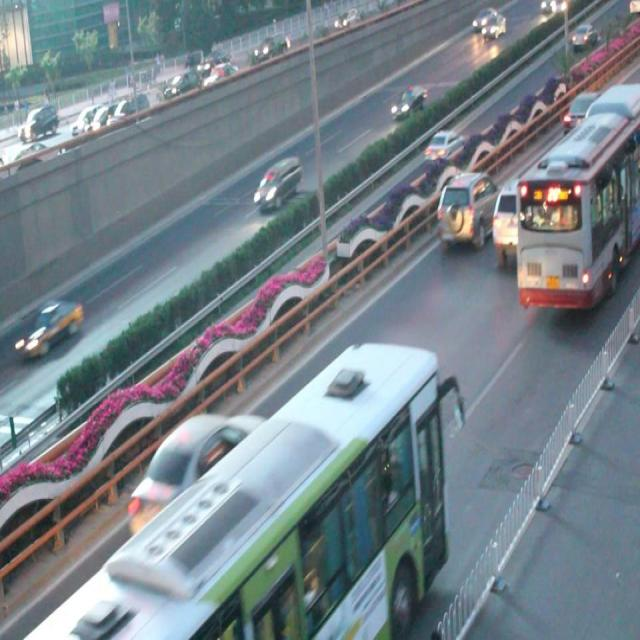car: (125, 415, 263, 532), (490, 175, 567, 272), (434, 170, 495, 248), (16, 298, 84, 360), (422, 125, 465, 168), (388, 81, 426, 123)
truck: (252, 154, 302, 211)
van: (36, 340, 452, 640), (518, 87, 640, 301)
